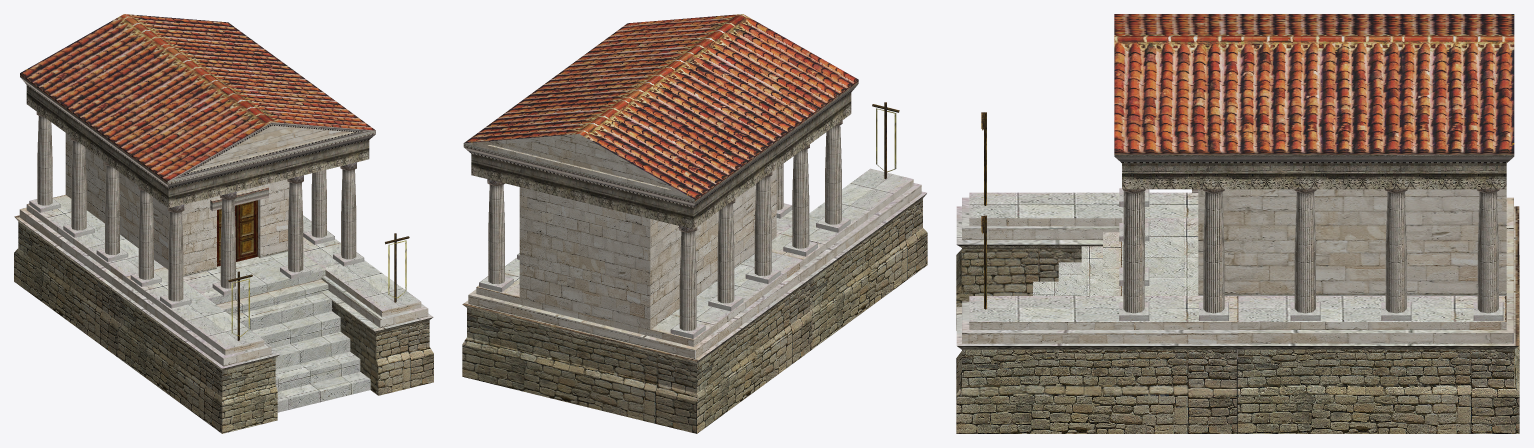
Rendered from rome_temple_2.dae.
3 views of the same model, side by side, from view 1: azimuth 30°, elevation 25°; view 2: azimuth 150°, elevation 25°; view 3: azimuth 270°, elevation 25° (orthographic). The views are drawn at different scales.
Visible parts, largest first — view 1: Box01; view 2: Box01; view 3: Box01.
Boxes of the visible parts, bbox=[...] form: Box01: bbox=[14, 14, 433, 433]; Box01: bbox=[462, 14, 927, 433]; Box01: bbox=[956, 14, 1519, 433].
Size of the model in its own units: 16.77 by 28.48 by 18.33.
